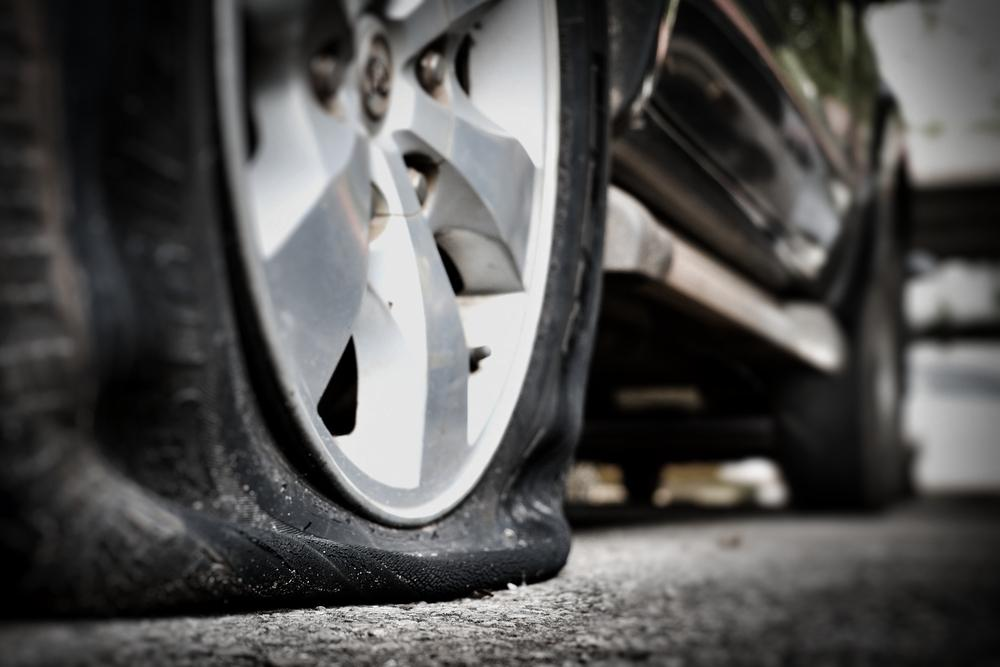tire flat: (0, 0, 609, 622)
